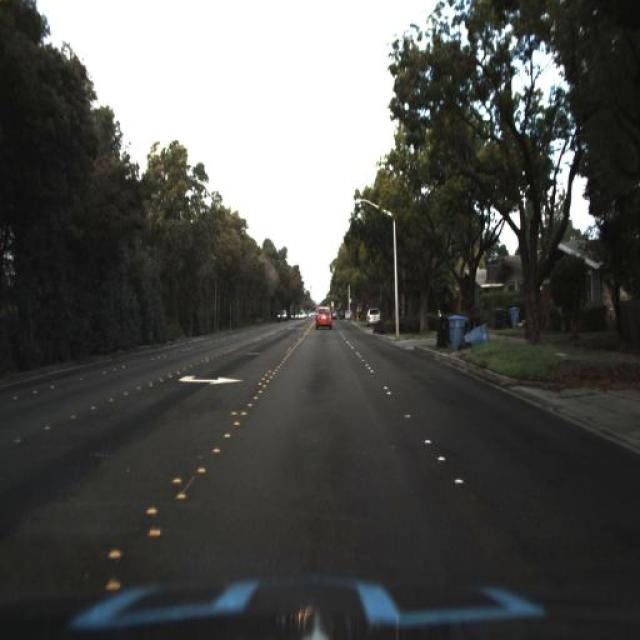car: (310, 300, 335, 335), (367, 303, 382, 326)
